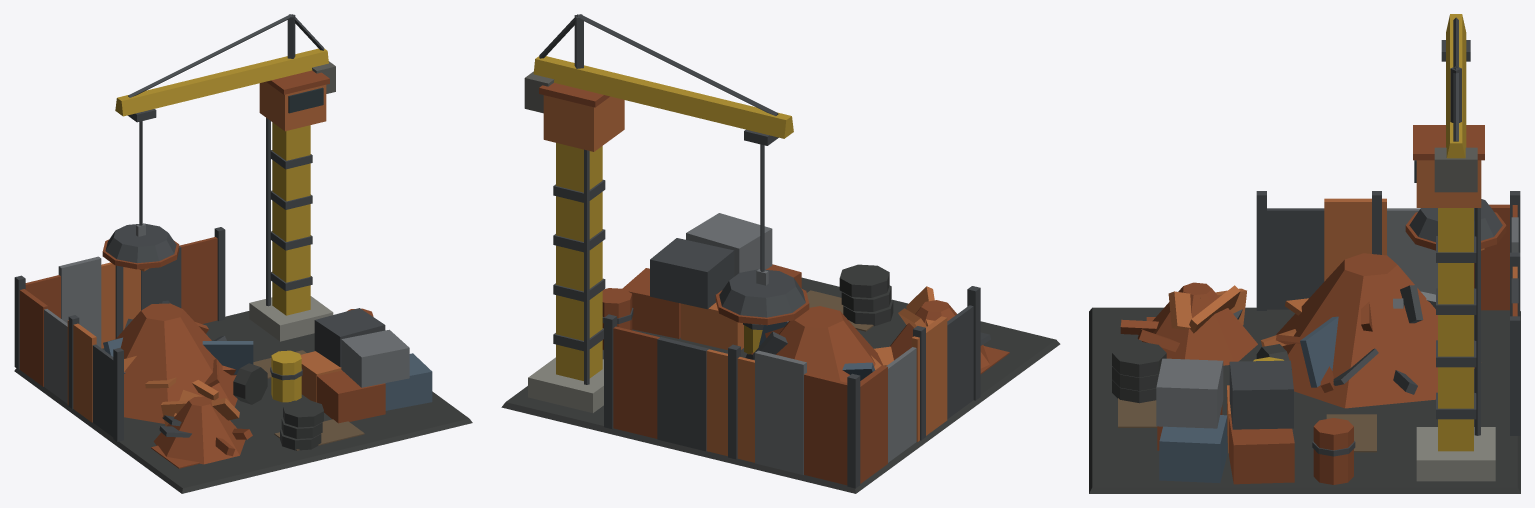
File: scrapyard_l1.glb
3 views of the same model, side by side, from view 1: azimuth 30°, elevation 25°; view 2: azimuth 150°, elevation 25°; view 3: azimuth 270°, elevation 25° (orthographic). The views are drawn at different scales.
Visible parts, largest first — view 1: scrapyard_structure, scrapyard_props, scrapyard_heaps; view 2: scrapyard_structure, scrapyard_props, scrapyard_heaps; view 3: scrapyard_structure, scrapyard_heaps, scrapyard_props.
Part boxes in pixels (bbox=[...]): scrapyard_structure: bbox=[14, 14, 472, 493]; scrapyard_props: bbox=[102, 109, 432, 450]; scrapyard_heaps: bbox=[103, 300, 267, 464]; scrapyard_structure: bbox=[501, 14, 1060, 493]; scrapyard_props: bbox=[584, 129, 893, 384]; scrapyard_heaps: bbox=[745, 286, 990, 382]; scrapyard_structure: bbox=[1089, 14, 1520, 493]; scrapyard_heaps: bbox=[1120, 253, 1474, 408]; scrapyard_props: bbox=[1112, 40, 1506, 484].
Size of the model in its own units: 6 by 6.19 by 6.
